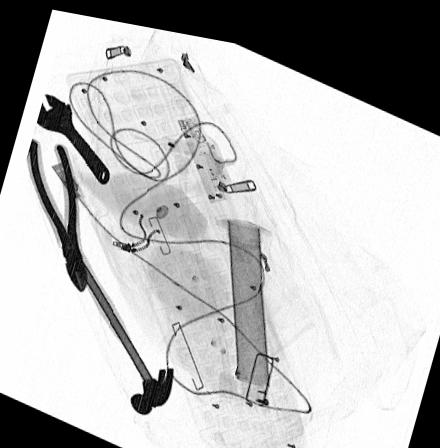Hammer: (54, 232, 174, 409)
Pliers: (21, 134, 87, 291)
Wrench: (26, 92, 109, 184)
